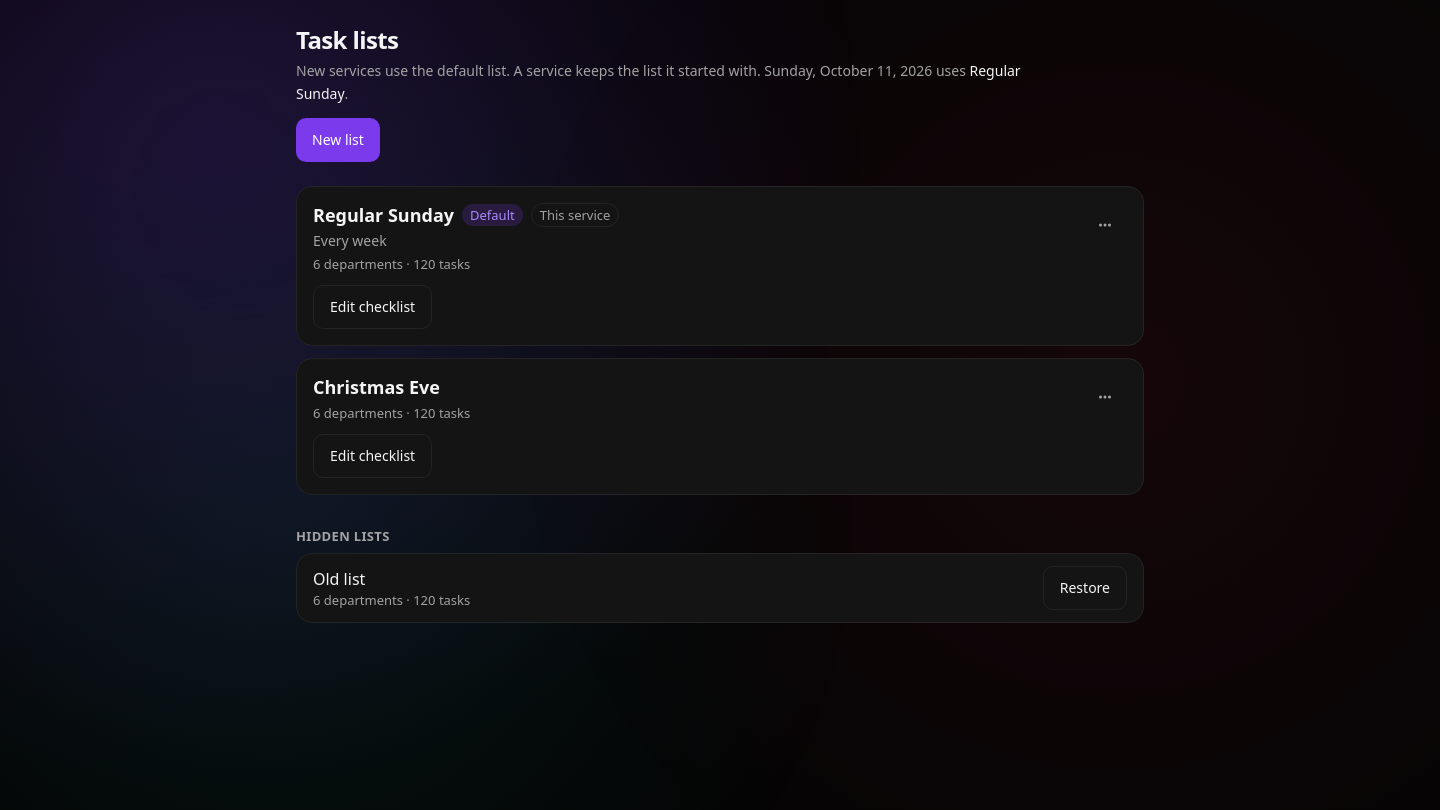
Test: Lists page › makes a list the default, and can switch this service while it has no check-offs
Expected: the heading "Regular Sunday" is shown, [313, 202, 454, 227]
Click the button named "Actions for list: Christmas Eve" at (1105, 397), box [1083, 375, 1127, 419]
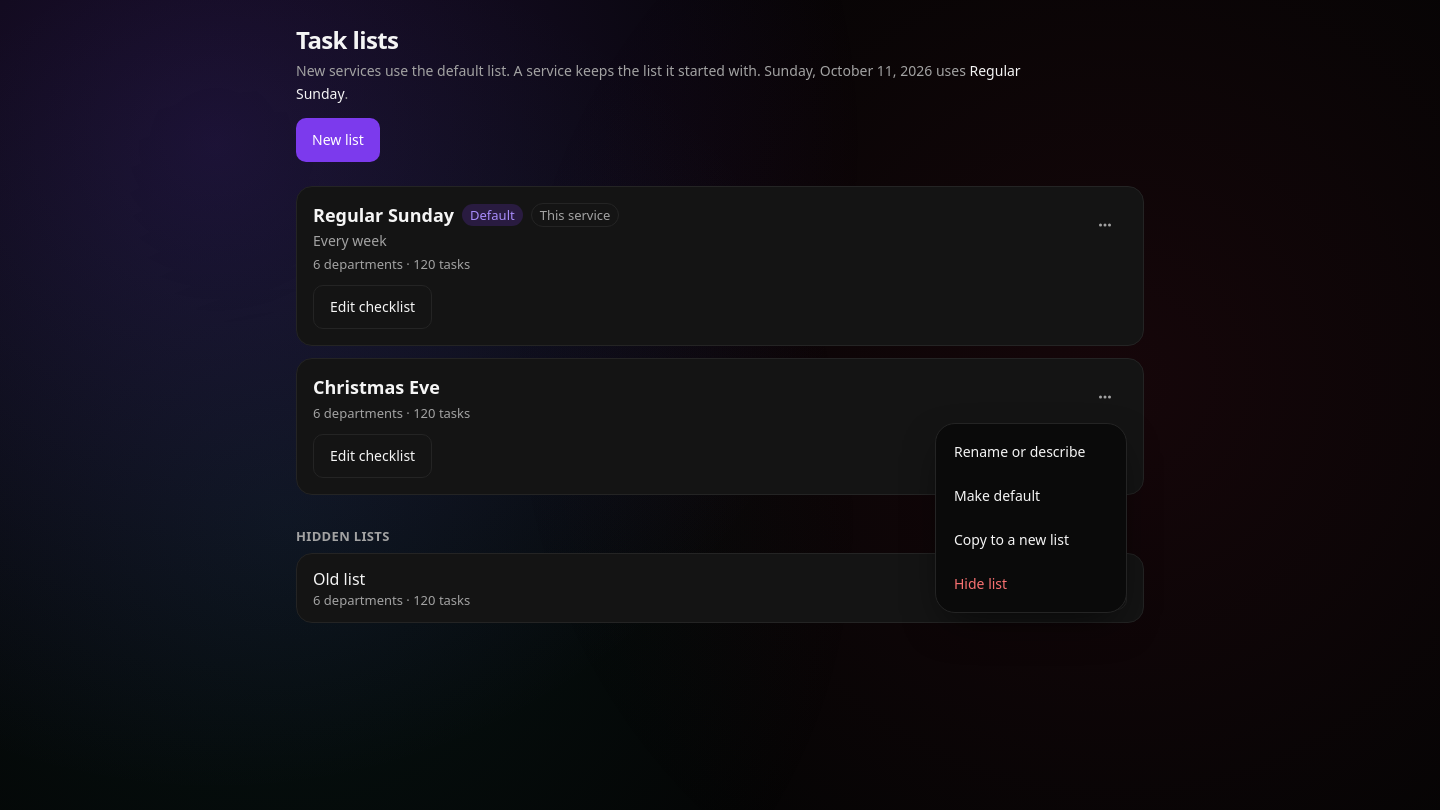
Click the button "Make default" at (1031, 496), box [942, 474, 1120, 518]
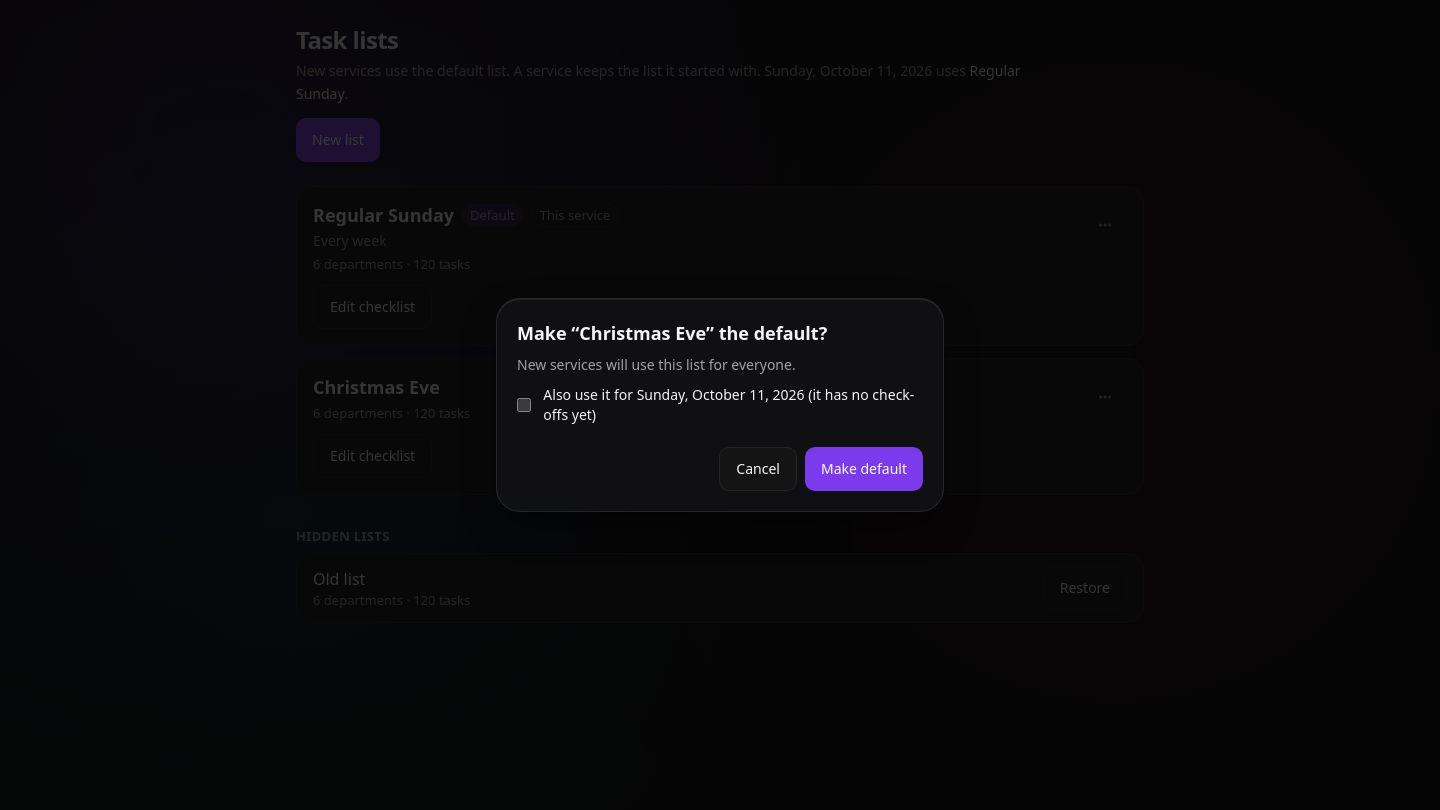
Click the checkbox labelled "Also use it for Sunday, October 11, 2026" at (524, 405), box [517, 397, 531, 413]
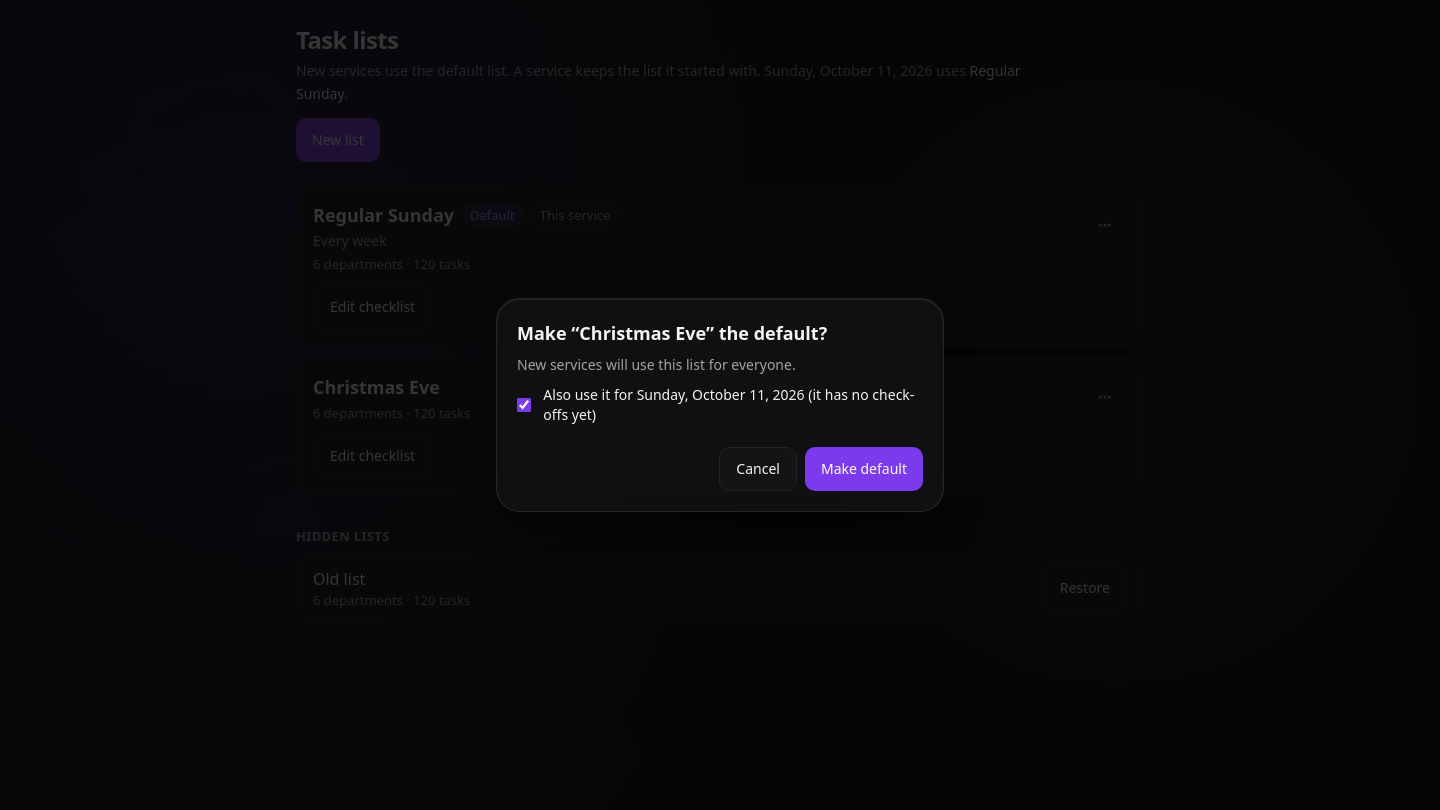
Click the button "Make default" at (864, 469), box [805, 447, 923, 491]
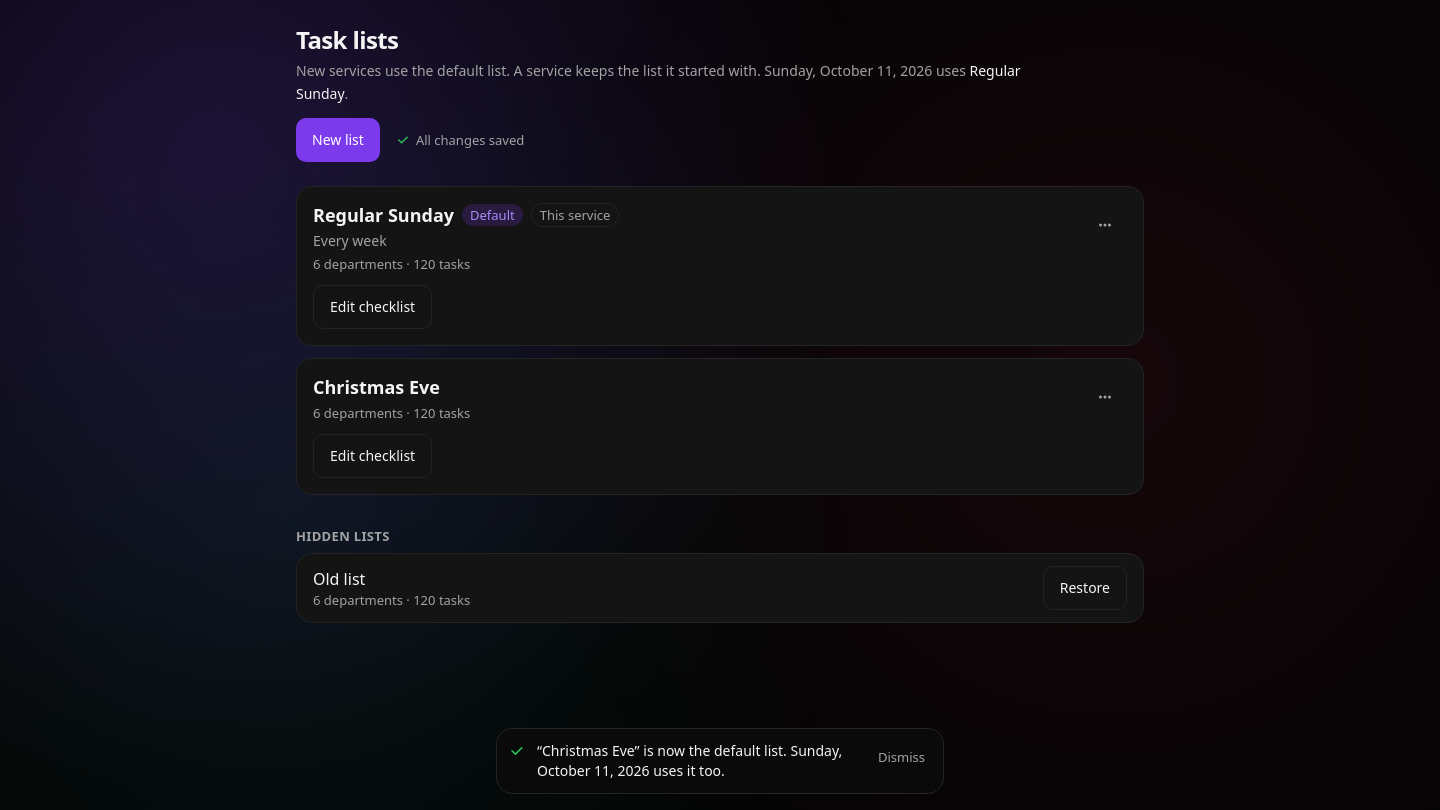
Result: the text "“Christmas Eve” is now the default list. Sunday, October 11, 2026 uses it too." is shown at [537, 741, 860, 781]
